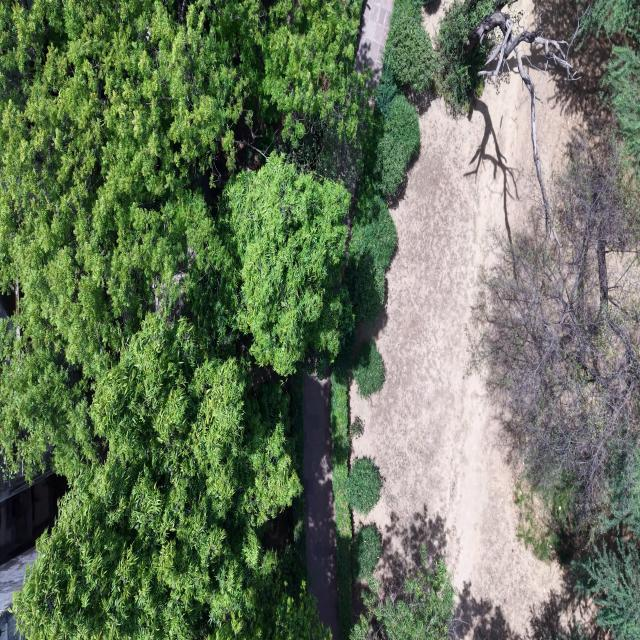DRY_AREA: (350, 75, 579, 639), (302, 374, 338, 639), (302, 375, 338, 639), (356, 0, 392, 80)
VEGETATION_TREE: (0, 0, 494, 639), (0, 0, 366, 638), (1, 3, 364, 637), (0, 3, 281, 476), (0, 2, 241, 477), (473, 0, 639, 639), (14, 315, 321, 638), (474, 47, 639, 639), (474, 48, 639, 638), (473, 132, 639, 639), (472, 138, 639, 524), (331, 335, 451, 638), (434, 0, 590, 231), (223, 155, 349, 375), (574, 282, 639, 639), (330, 328, 383, 637), (249, 0, 362, 140), (330, 355, 381, 637), (384, 0, 509, 113), (330, 355, 380, 637), (345, 65, 399, 323), (366, 0, 431, 200), (575, 447, 639, 639), (350, 547, 455, 639), (585, 0, 639, 177), (330, 327, 356, 637), (434, 0, 504, 113), (268, 118, 360, 193), (346, 190, 396, 323), (375, 558, 454, 639), (580, 535, 639, 639), (513, 475, 576, 570), (330, 367, 352, 637), (383, 0, 433, 93), (603, 46, 639, 175), (375, 94, 419, 197), (514, 481, 567, 560), (598, 447, 639, 536), (585, 0, 639, 40), (352, 340, 386, 398), (347, 457, 381, 514), (286, 366, 303, 478), (351, 525, 380, 580), (374, 65, 397, 117), (552, 621, 590, 639), (348, 416, 363, 439)
